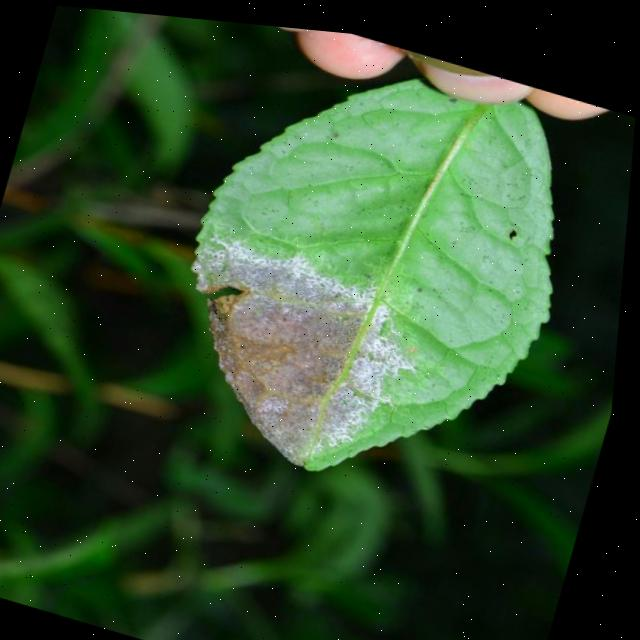Tea exobasidium blight: (178, 233, 440, 481)
